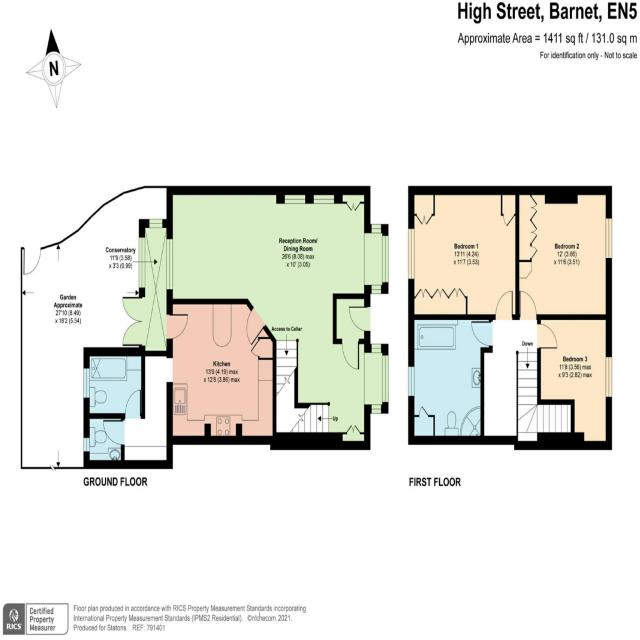DOOR: (246, 306, 266, 346), (471, 319, 493, 347), (166, 313, 188, 339), (103, 419, 125, 445), (537, 323, 558, 349), (519, 290, 537, 320), (495, 290, 513, 320), (124, 389, 142, 419)
ROOM: (166, 298, 277, 450), (408, 186, 519, 320), (515, 185, 612, 320), (537, 314, 612, 451)
WINDOW: (166, 238, 173, 291), (408, 228, 415, 280), (605, 356, 613, 398), (605, 217, 613, 259), (382, 235, 389, 283), (382, 355, 389, 403), (408, 366, 415, 397), (83, 368, 90, 399), (371, 223, 381, 234), (371, 284, 382, 294), (371, 404, 382, 414), (83, 437, 90, 452), (371, 344, 382, 353)
